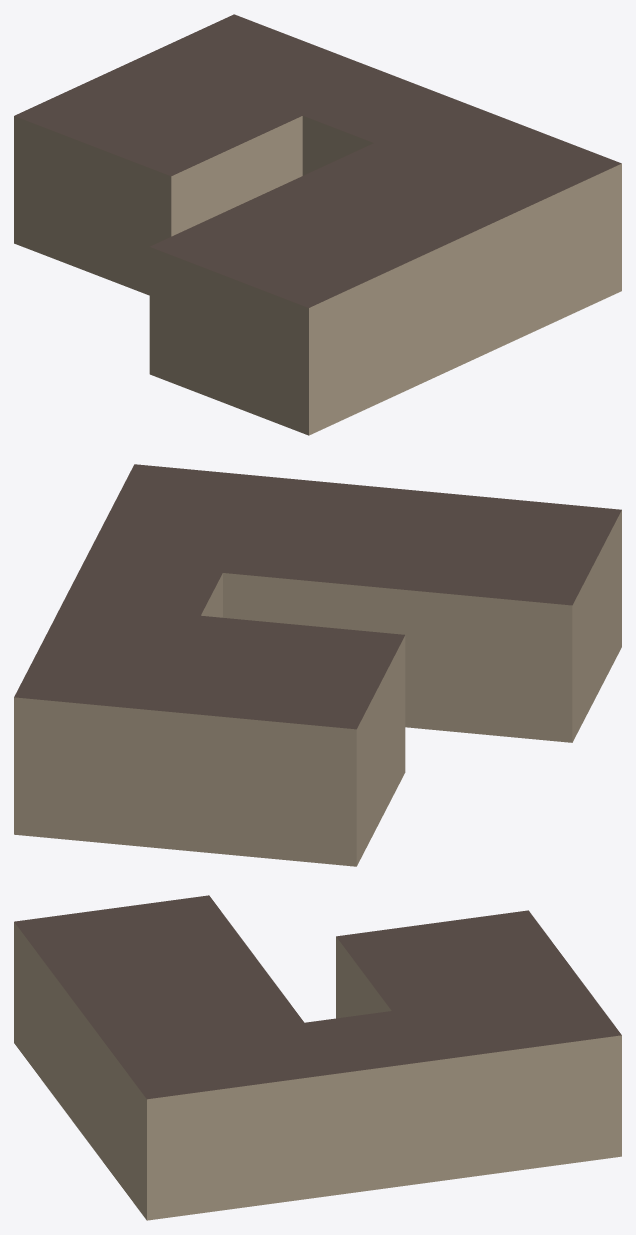
3 renders of one model, top to bottom at view 1: azimuth 30°, elevation 25°; view 2: azimuth 150°, elevation 25°; view 3: azimuth 270°, elevation 25°, orthographic. The views are drawn at different scales.
Visible parts, largest first — view 1: HP-w859488892; view 2: HP-w859488892; view 3: HP-w859488892.
Part boxes in pixels (x1,y1,x2,y2): HP-w859488892: (14, 14, 621, 435); HP-w859488892: (14, 464, 621, 866); HP-w859488892: (14, 895, 621, 1220).
Bounding box in the file's own units: 32.45 × 9 × 40.88.
